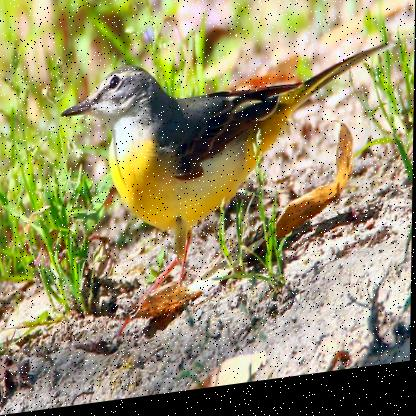Burung: (59, 40, 395, 307)
